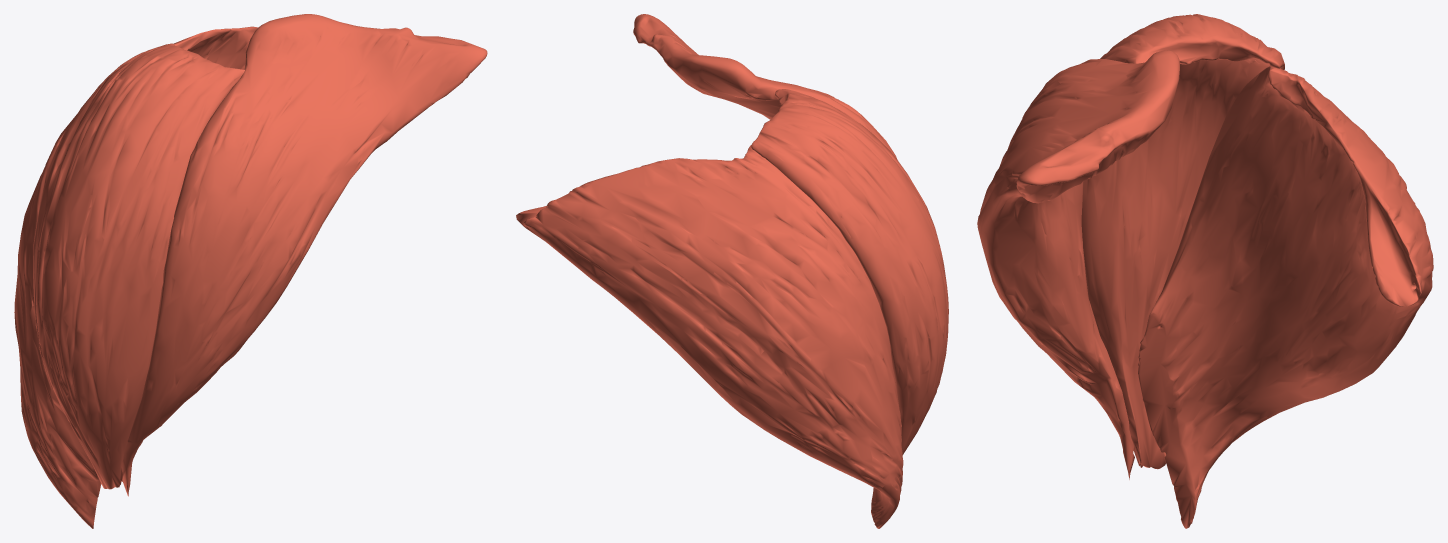
Rendered from deltoid.glb.
3 views of the same model, side by side, from view 1: azimuth 30°, elevation 25°; view 2: azimuth 150°, elevation 25°; view 3: azimuth 270°, elevation 25° (orthographic). The views are drawn at different scales.
Parts seen in each view (by area): view 1: Clavicular part of deltoid muscle.r, Acromial part of deltoid muscle.r, Scapular part of deltoid uscle.r; view 2: Scapular part of deltoid uscle.r, Acromial part of deltoid muscle.r, Clavicular part of deltoid muscle.r; view 3: Scapular part of deltoid uscle.r, Clavicular part of deltoid muscle.r, Acromial part of deltoid muscle.r.
Part boxes in pixels (x1,y1,x2,y2): Clavicular part of deltoid muscle.r: [122, 14, 487, 496]; Acromial part of deltoid muscle.r: [33, 43, 244, 489]; Scapular part of deltoid uscle.r: [14, 26, 258, 528]; Scapular part of deltoid uscle.r: [516, 145, 903, 528]; Acromial part of deltoid muscle.r: [751, 89, 948, 454]; Clavicular part of deltoid muscle.r: [633, 14, 897, 159]; Scapular part of deltoid uscle.r: [1138, 66, 1433, 528]; Clavicular part of deltoid muscle.r: [977, 50, 1179, 479]; Acromial part of deltoid muscle.r: [1081, 14, 1284, 469].
Size of the model in its own units: 0.1504 by 0.173 by 0.1236.
